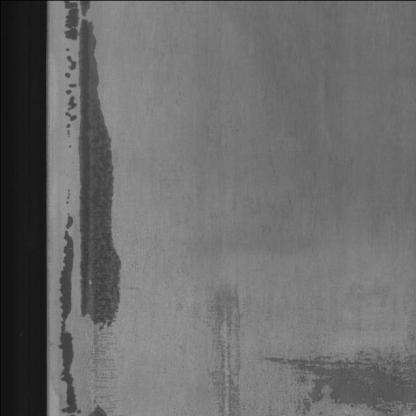oil_spot: (54, 3, 126, 414), (271, 330, 408, 416)
